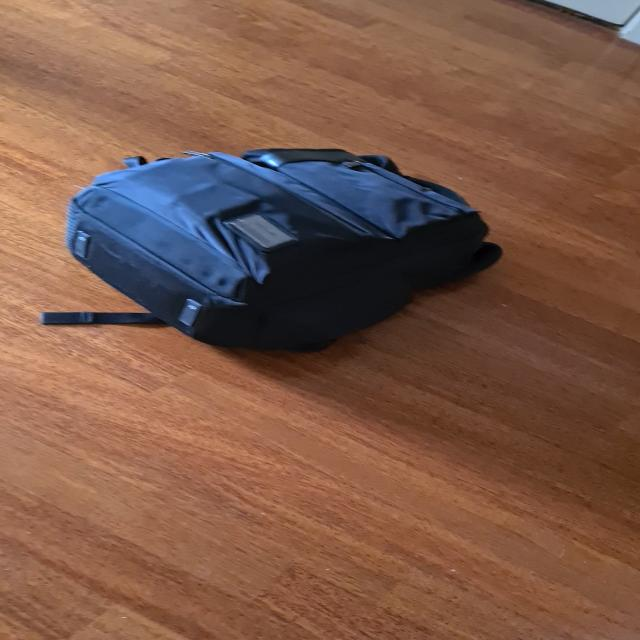backpack: (34, 141, 516, 351)
